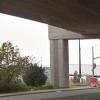Bridge: (4, 3, 85, 74)
